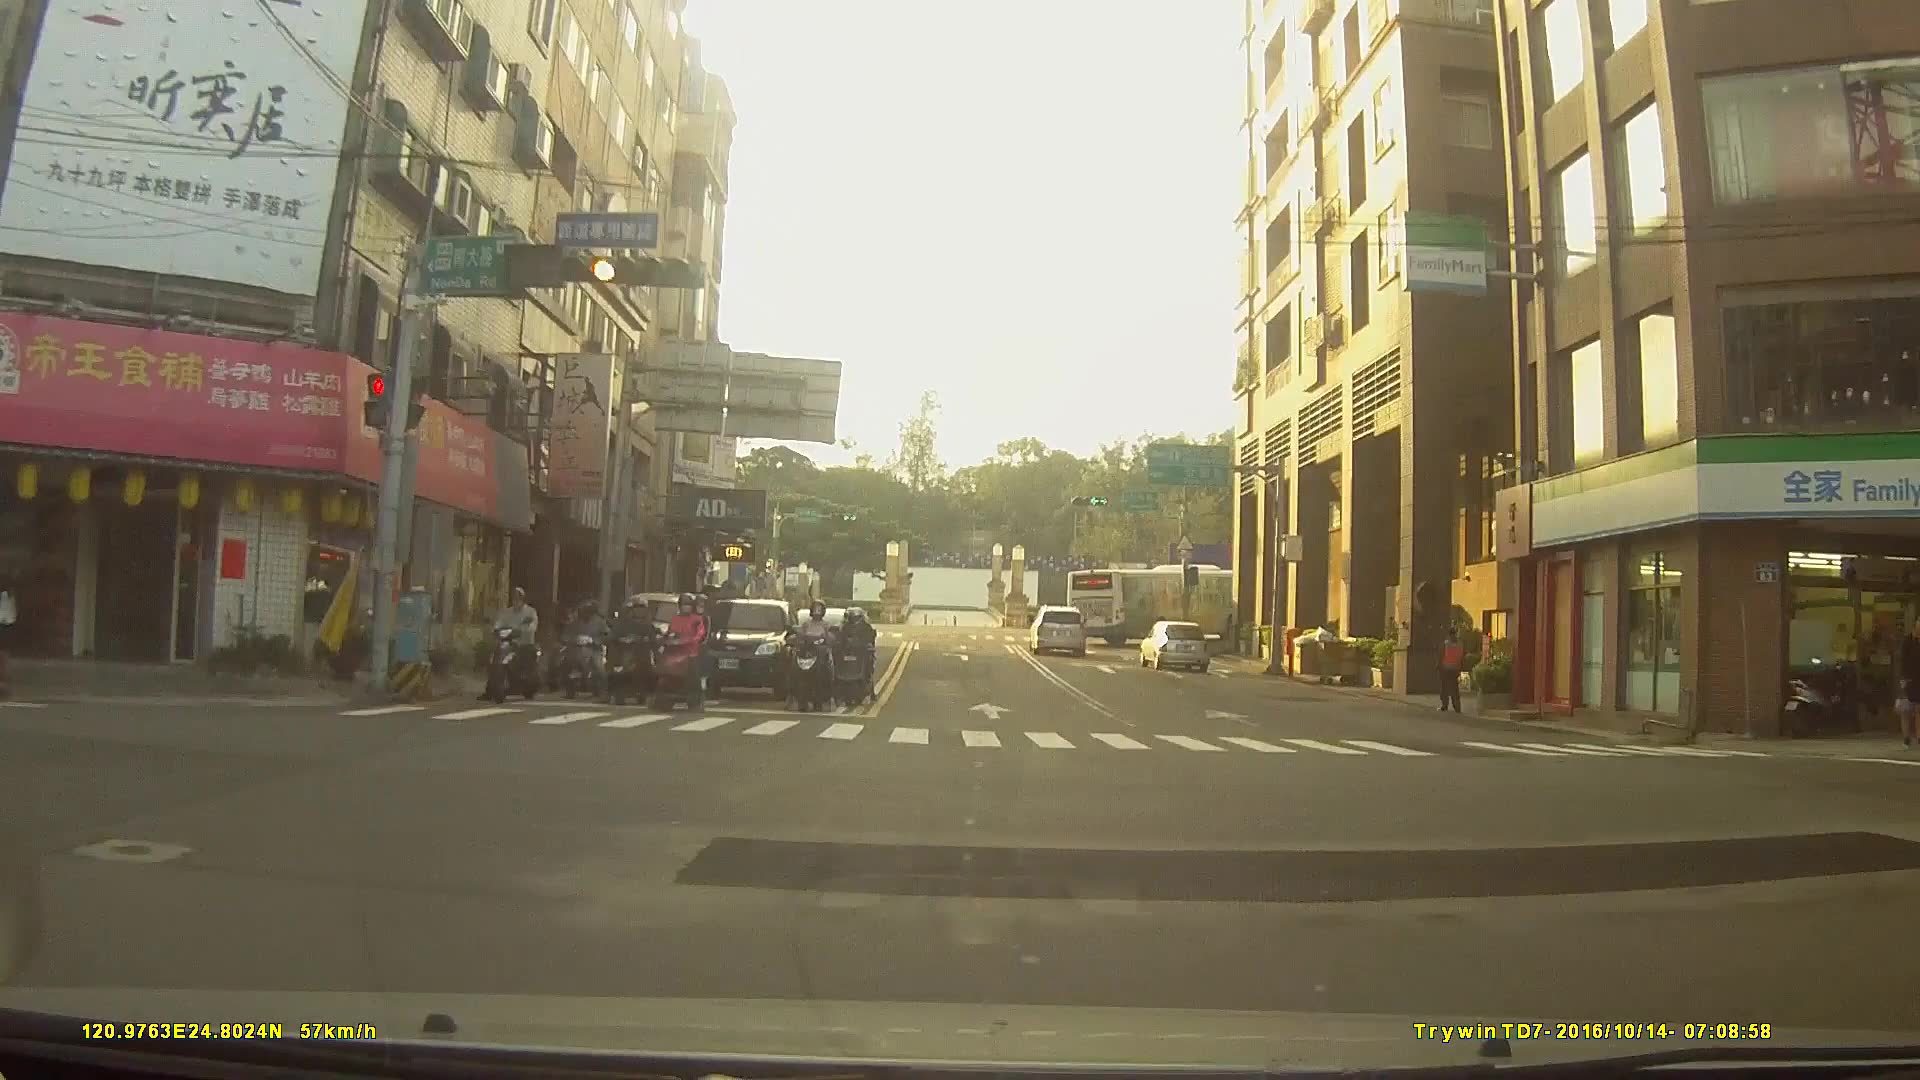pedestrian: (1892, 611, 1920, 742), (1436, 629, 1468, 715), (1, 563, 21, 697)
rider: (648, 594, 715, 721), (483, 591, 547, 706), (791, 605, 842, 714), (606, 599, 656, 706), (556, 602, 606, 704), (830, 615, 877, 711)
vehicle: (1064, 565, 1254, 643), (676, 596, 796, 700), (1137, 618, 1210, 670), (1028, 604, 1088, 656)
